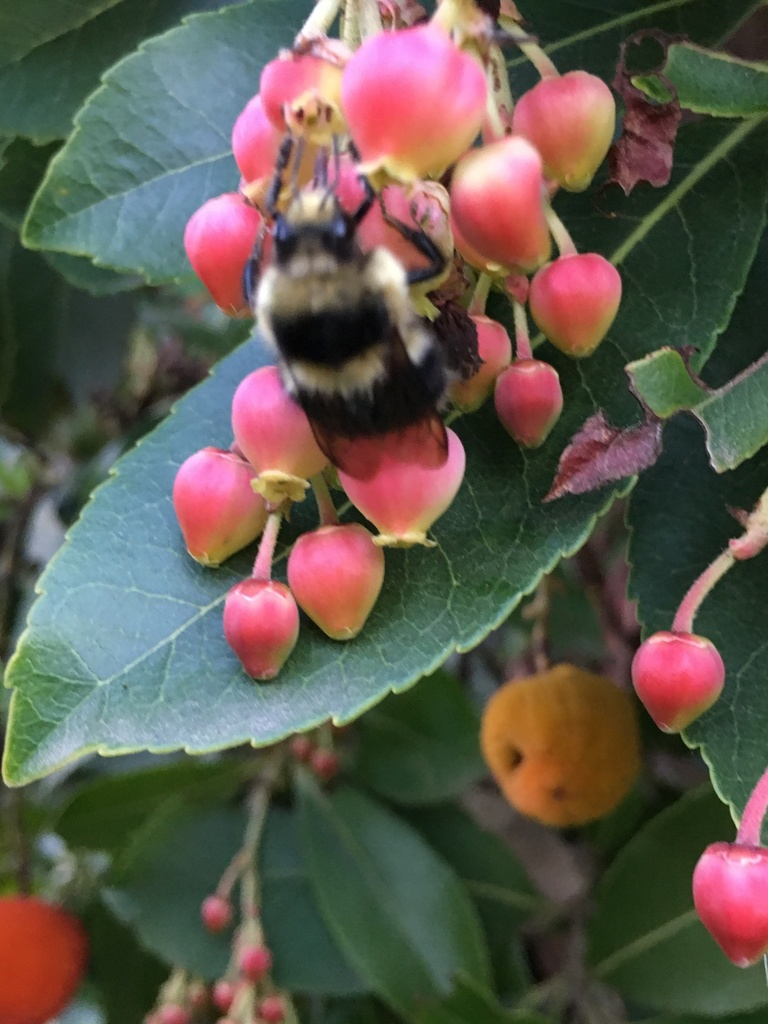bumblebee: (243, 106, 489, 484)
